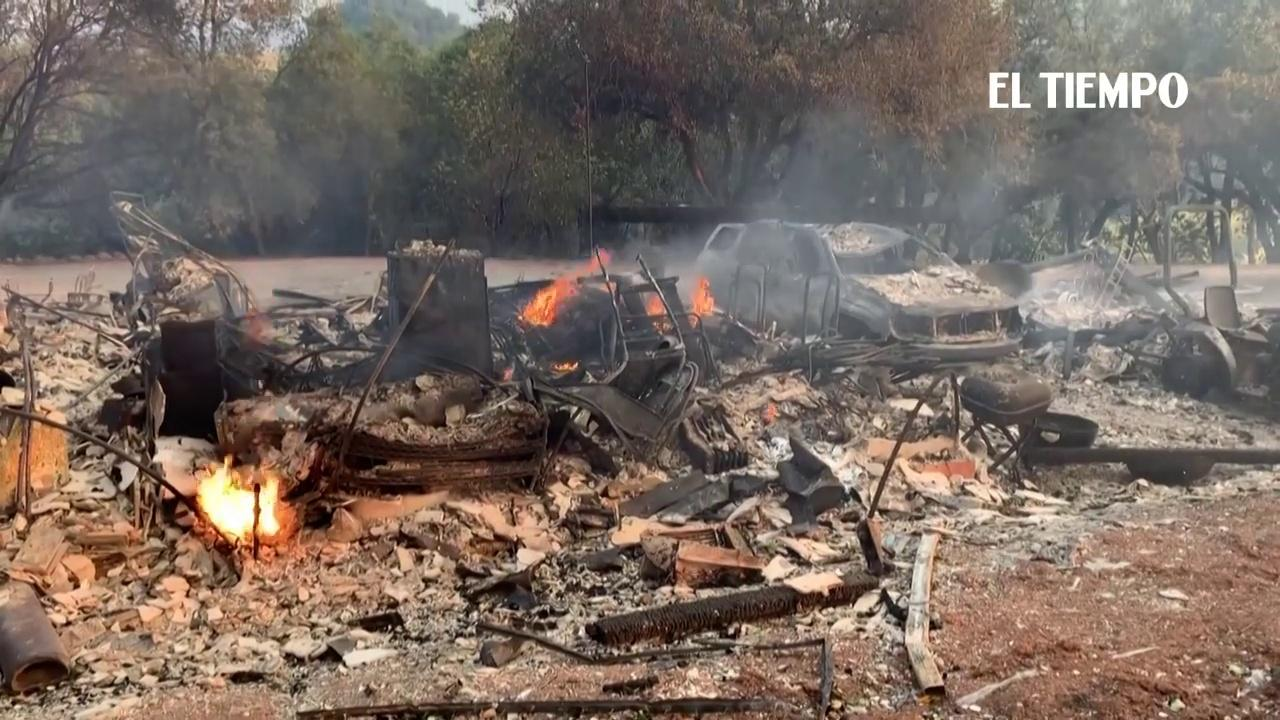Fire: (195, 463, 288, 537), (520, 283, 567, 327), (695, 279, 718, 314), (549, 356, 582, 373)
